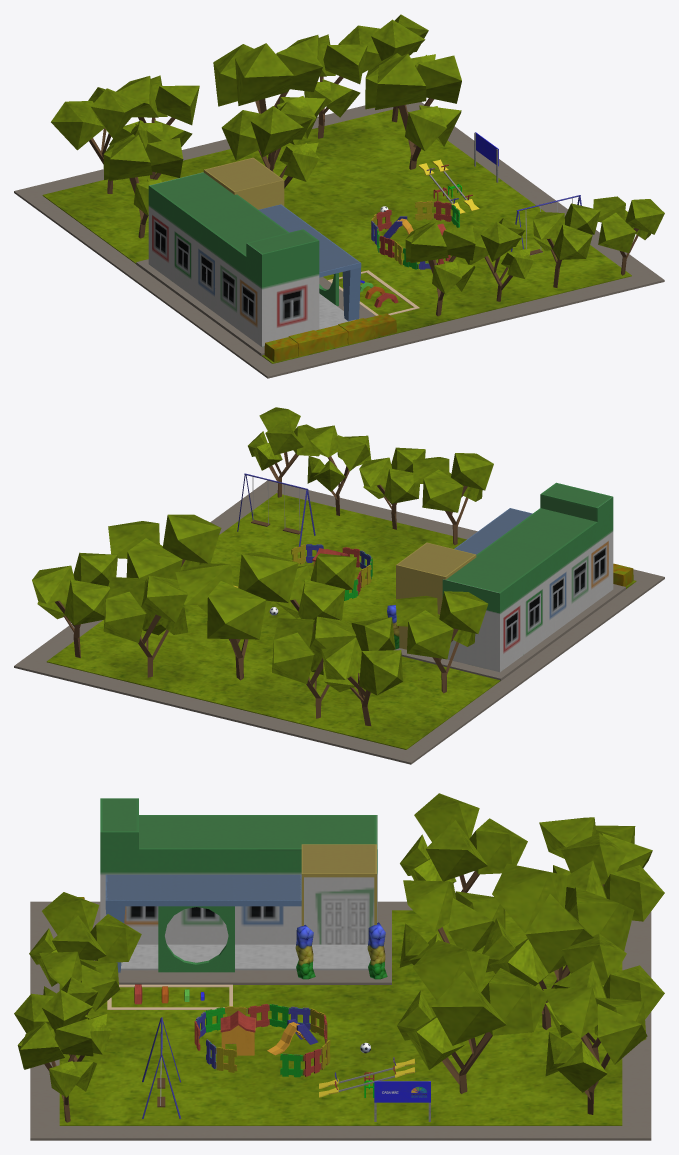
Rendered from casaMaeEvoluçãoBaixaLOD0.fbx.
3 views of the same model, one above another, from view 1: azimuth 30°, elevation 25°; view 2: azimuth 150°, elevation 25°; view 3: azimuth 270°, elevation 25° (orthographic). The views are drawn at different scales.
Parts seen in each view (by area): view 1: Casa Mae Evolucao Baixa; view 2: Casa Mae Evolucao Baixa; view 3: Casa Mae Evolucao Baixa.
Part boxes in pixels (left/top/right/bottom): Casa Mae Evolucao Baixa: left=14, top=14, right=664, bottom=378; Casa Mae Evolucao Baixa: left=14, top=407, right=664, bottom=764; Casa Mae Evolucao Baixa: left=14, top=793, right=664, bottom=1140.
Bounding box in the file's own units: 3769 × 1306 × 4365.
1 material, 1 textured.
